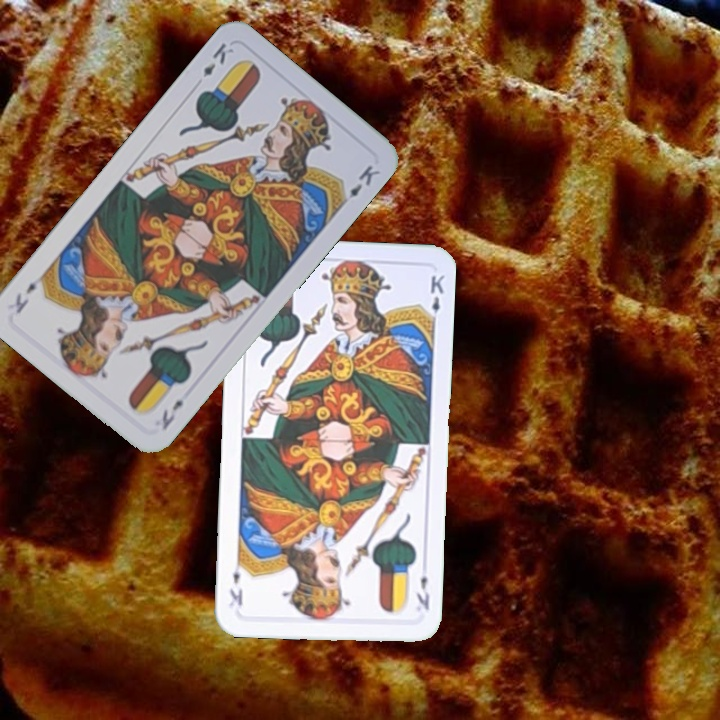EK: (198, 39, 237, 80), (157, 395, 187, 433), (412, 571, 432, 613)
